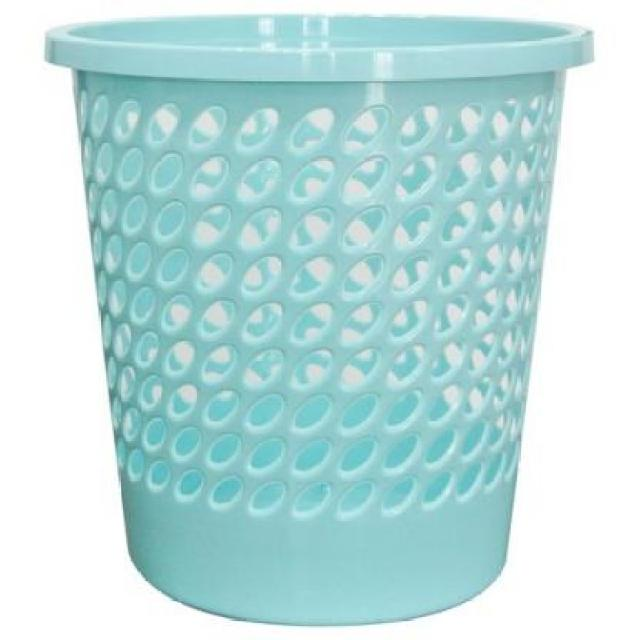dustbin: (42, 4, 600, 634)
